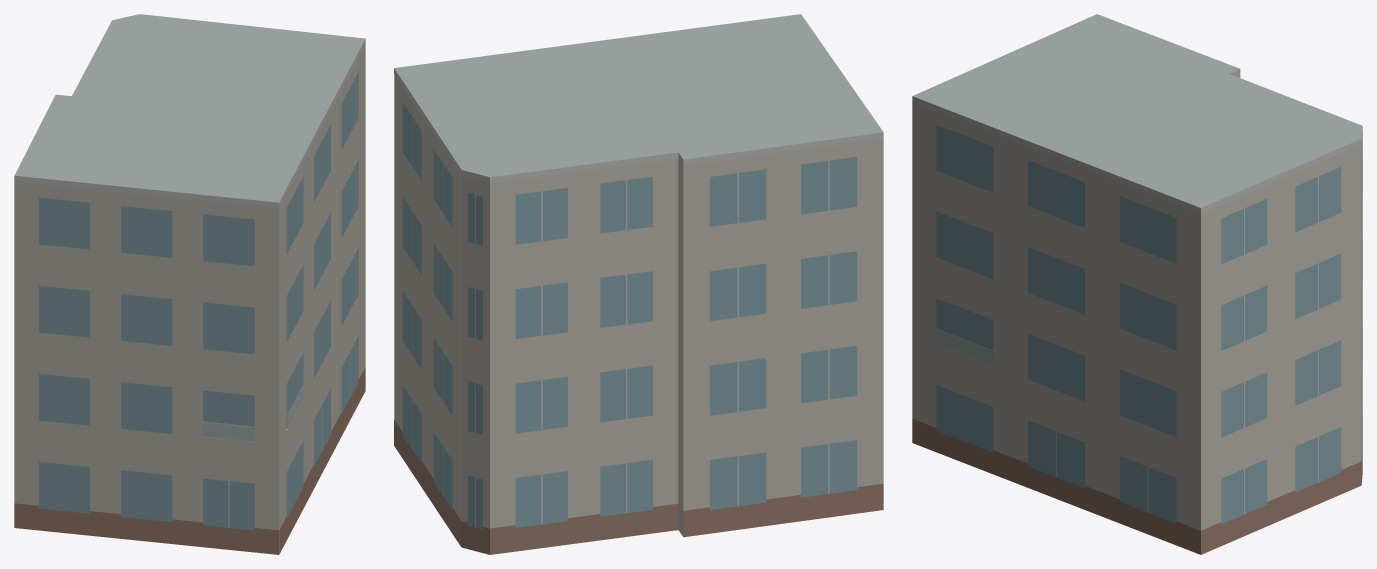
The model's file is survey-upis-32999711.glb.
The picture shows the model from 3 angles, left to right: view 1: azimuth 30°, elevation 25°; view 2: azimuth 150°, elevation 25°; view 3: azimuth 270°, elevation 25°; orthographic projection. The views are drawn at different scales.
Visible parts, largest first — view 1: survey-upis-32999711.tmp; view 2: survey-upis-32999711.tmp; view 3: survey-upis-32999711.tmp.
Boxes of the visible parts, bbox=[...] form: survey-upis-32999711.tmp: bbox=[14, 14, 365, 554]; survey-upis-32999711.tmp: bbox=[394, 14, 883, 554]; survey-upis-32999711.tmp: bbox=[912, 14, 1362, 554].
Bounding box in the file's own units: 17.83 × 14.85 × 17.48.
